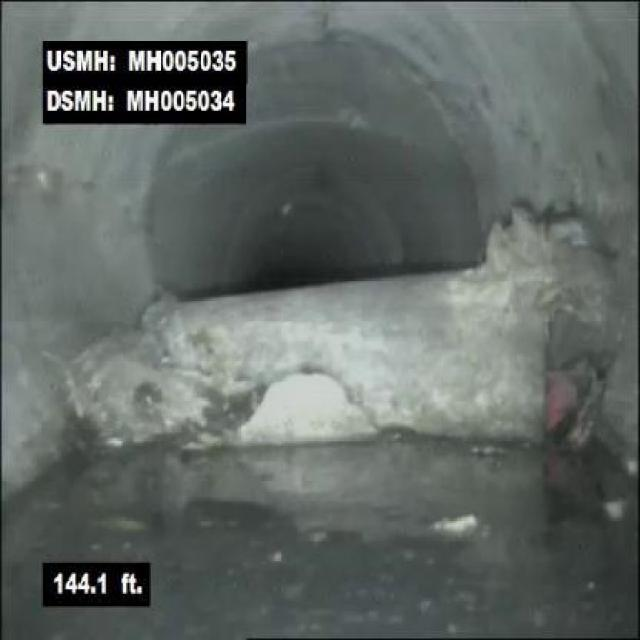Utility intrusion: (146, 245, 594, 449)
